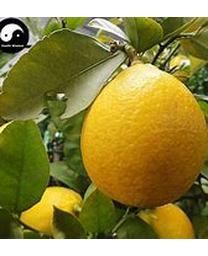lemon: (80, 65, 207, 209)
